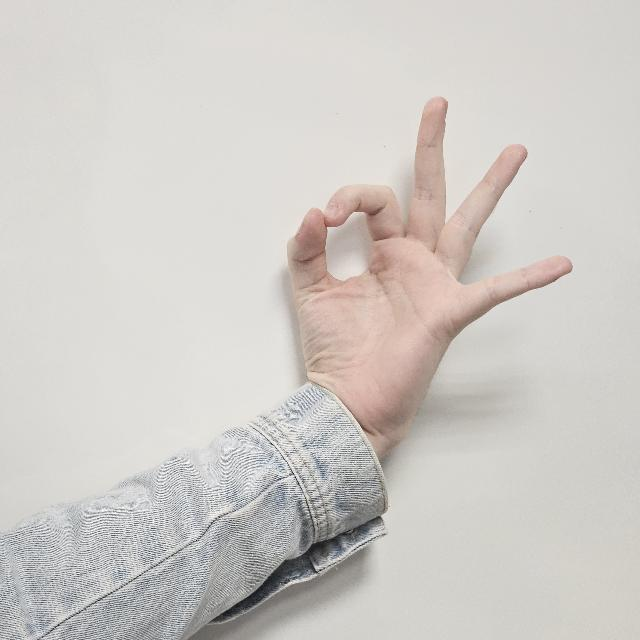Bolinha: (281, 92, 575, 454)
